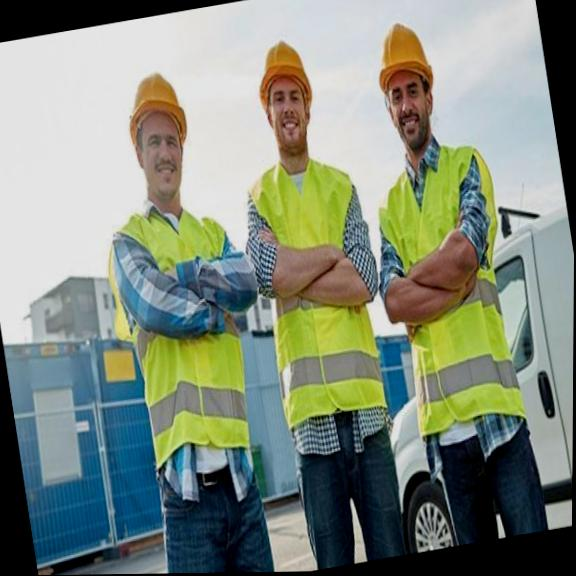safety_vest: (102, 191, 270, 488), (371, 140, 527, 442), (243, 147, 395, 433)
